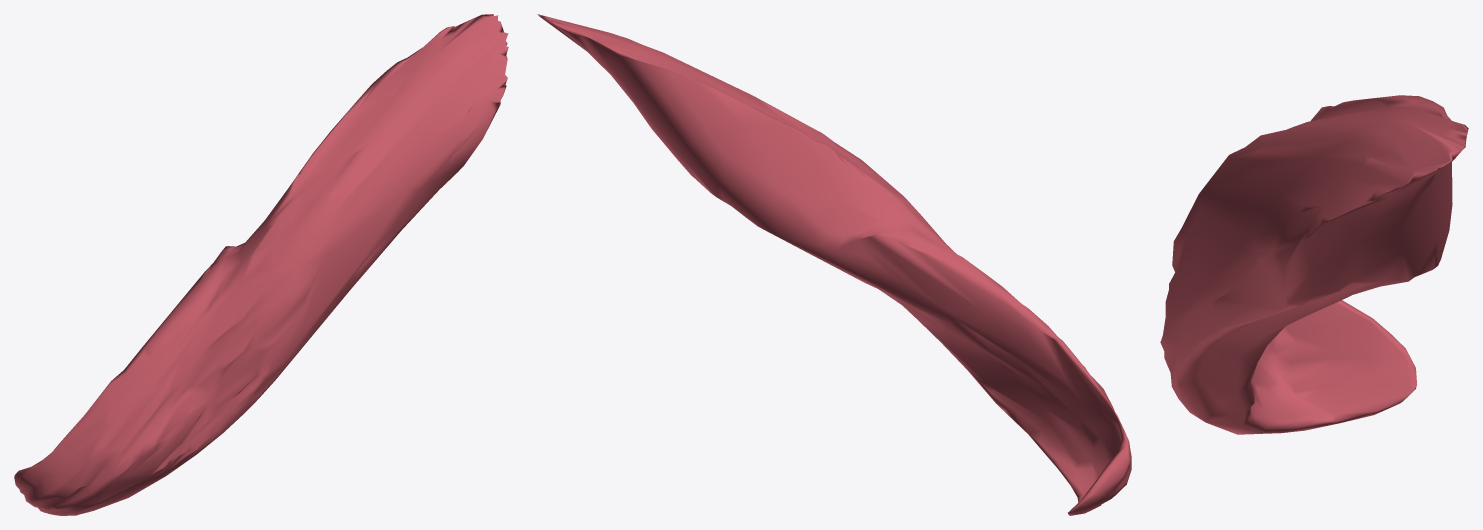
The picture shows the model from 3 angles, left to right: view 1: azimuth 30°, elevation 25°; view 2: azimuth 150°, elevation 25°; view 3: azimuth 270°, elevation 25°; orthographic projection. The views are drawn at different scales.
Visible parts, largest first — view 1: 右侧冈上肌; view 2: 右侧冈上肌; view 3: 右侧冈上肌.
Boxes of the visible parts, x1=… form: 右侧冈上肌: x1=14, y1=14, x2=508, y2=515; 右侧冈上肌: x1=537, y1=14, x2=1131, y2=515; 右侧冈上肌: x1=1160, y1=95, x2=1468, y2=434.
Bounding box in the file's own units: 0.1843 × 0.1249 × 0.0483.
